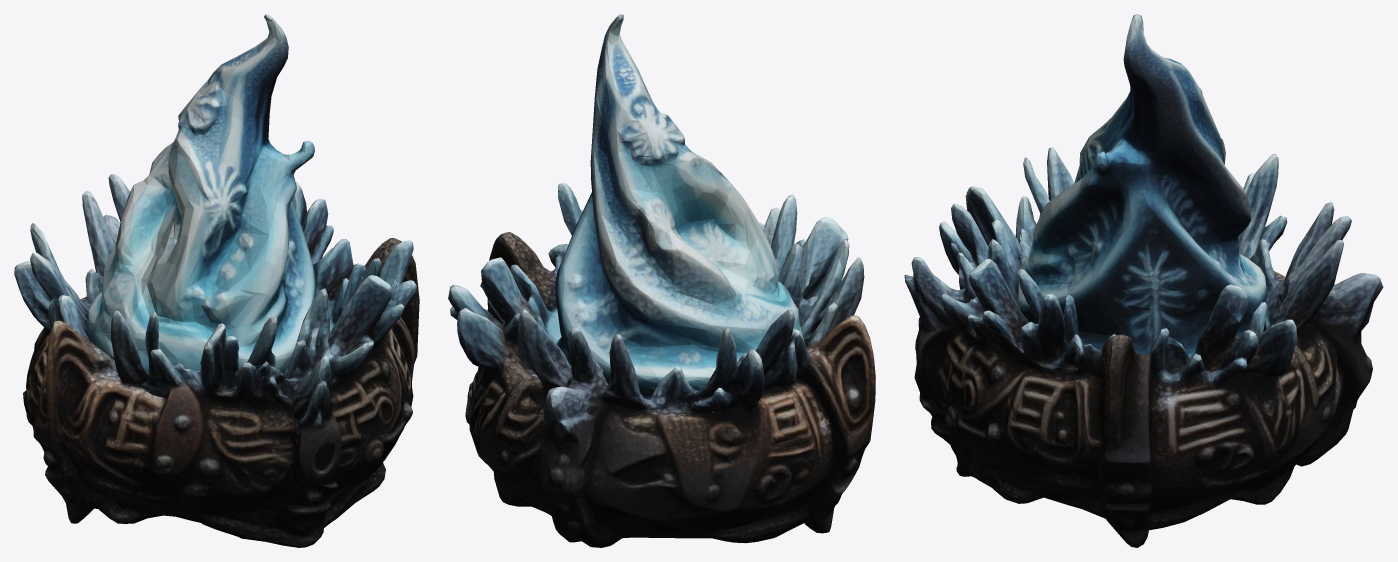
Rendered from frostWisp.glb.
3 renders of one model, left to right at view 1: azimuth 30°, elevation 25°; view 2: azimuth 150°, elevation 25°; view 3: azimuth 270°, elevation 25°, orthographic. The views are drawn at different scales.
Parts seen in each view (by area): view 1: world; view 2: world; view 3: world.
Boxes of the visible parts, box(x1,y1,x2,y2) form: world: box(14, 14, 419, 547); world: box(448, 14, 875, 547); world: box(904, 14, 1383, 547).
Size of the model in its own units: 0.7728 by 0.9101 by 0.8183.
1 material, 1 textured.
